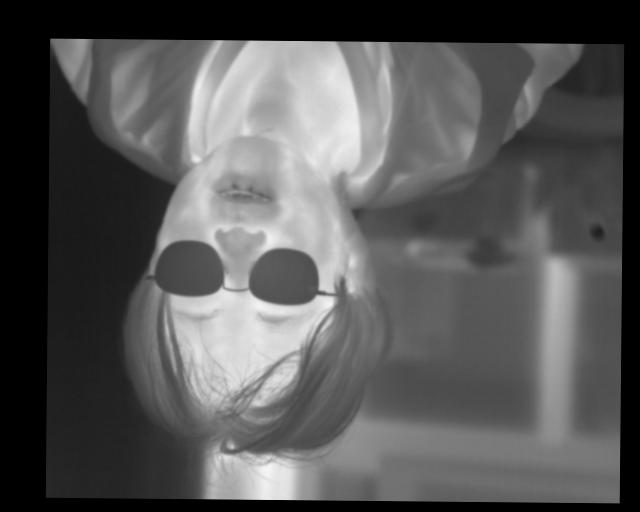face: (119, 130, 381, 467)
